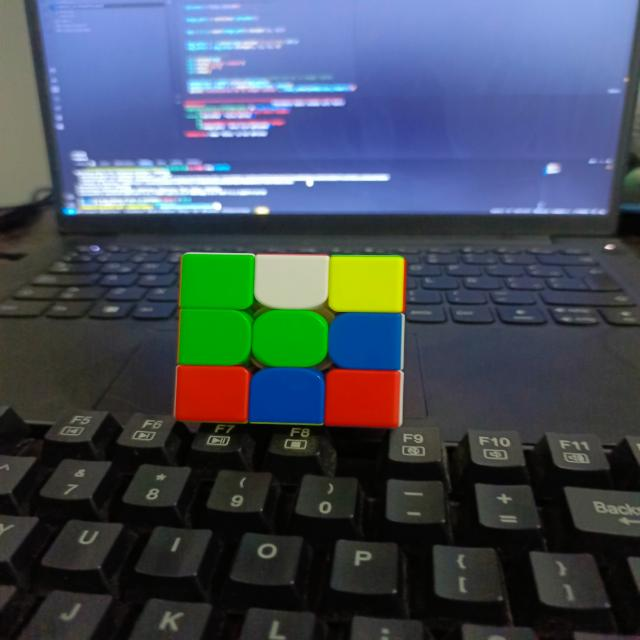rubik: (173, 251, 407, 428)
